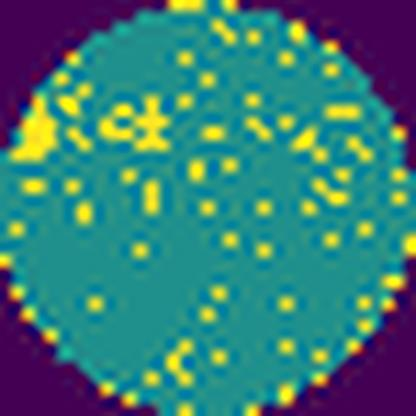Loc: (5, 90, 59, 162)
